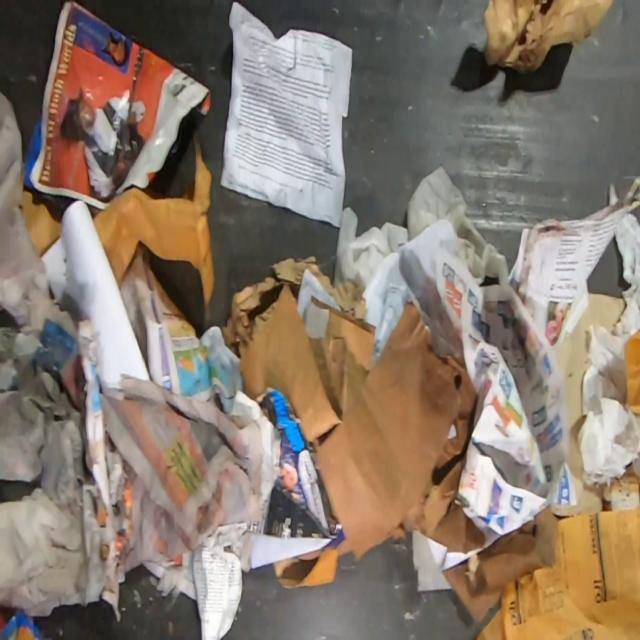cardboard: (312, 298, 489, 560), (239, 266, 378, 448), (550, 291, 626, 517), (440, 505, 563, 624), (482, 0, 613, 75)
soft_plastic: (0, 605, 47, 640)
